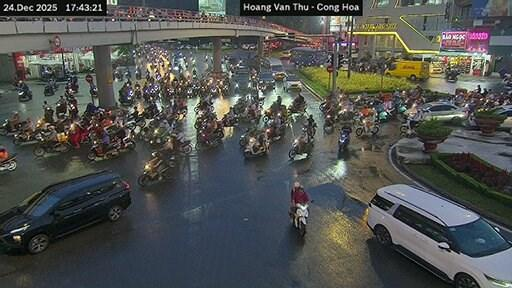motorbike: (86, 136, 134, 160), (137, 160, 172, 184), (32, 135, 69, 156), (243, 136, 268, 157), (288, 136, 313, 157), (291, 203, 307, 235), (0, 118, 25, 135), (12, 130, 41, 144), (355, 118, 378, 135), (195, 133, 218, 148), (338, 126, 351, 152), (399, 121, 418, 136), (265, 125, 284, 140), (0, 153, 16, 170), (239, 129, 256, 145), (118, 88, 133, 104), (323, 113, 335, 131), (176, 139, 191, 153), (288, 102, 306, 113), (54, 103, 67, 117), (221, 113, 236, 125), (18, 89, 31, 100), (67, 103, 77, 117), (44, 82, 54, 94), (445, 72, 457, 81), (499, 66, 508, 77), (134, 85, 140, 98), (89, 84, 96, 95), (134, 67, 140, 79), (153, 152, 160, 157), (124, 72, 131, 76), (125, 68, 130, 72), (467, 117, 470, 120)
